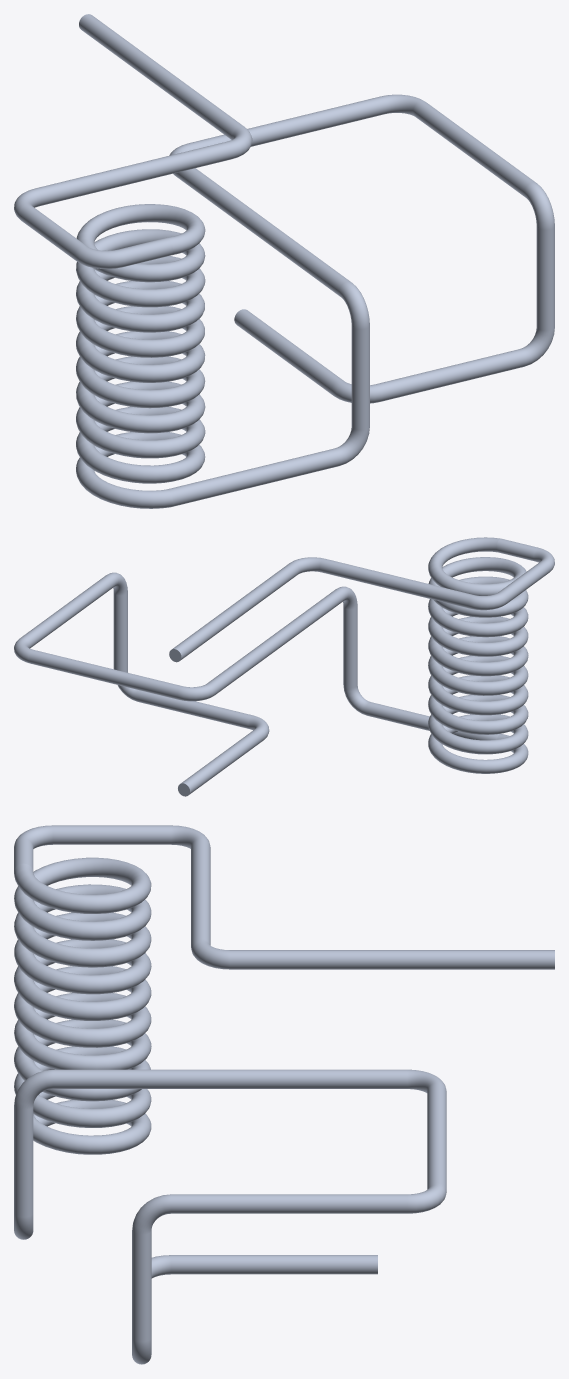
The picture shows the model from 3 angles, top to bottom: view 1: azimuth 30°, elevation 25°; view 2: azimuth 150°, elevation 25°; view 3: azimuth 270°, elevation 25°; orthographic projection. The views are drawn at different scales.
Parts seen in each view (by area): view 1: cw-05-01; view 2: cw-05-01; view 3: cw-05-01.
Part boxes in pixels (x1,y1,x2,y2): cw-05-01: (14,14,554,508); cw-05-01: (14,537,554,796); cw-05-01: (14,825,554,1364).
Bounding box in the file's own units: 0.1375 × 0.0677 × 0.1164.
